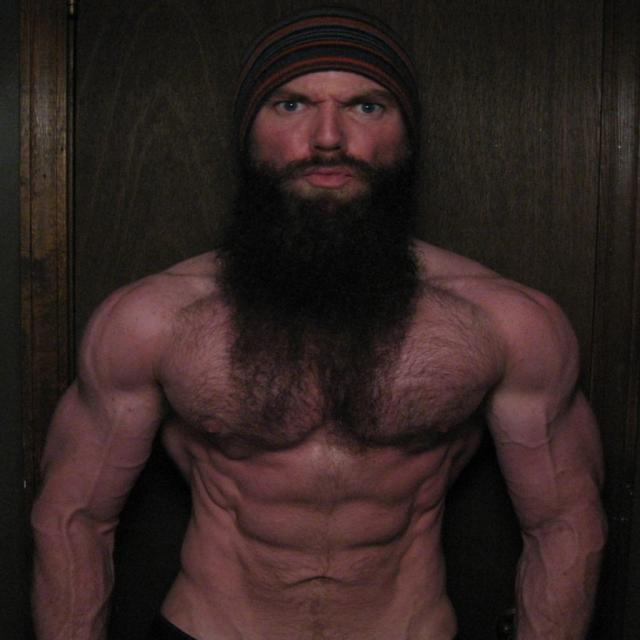nomask: (257, 70, 408, 210)
